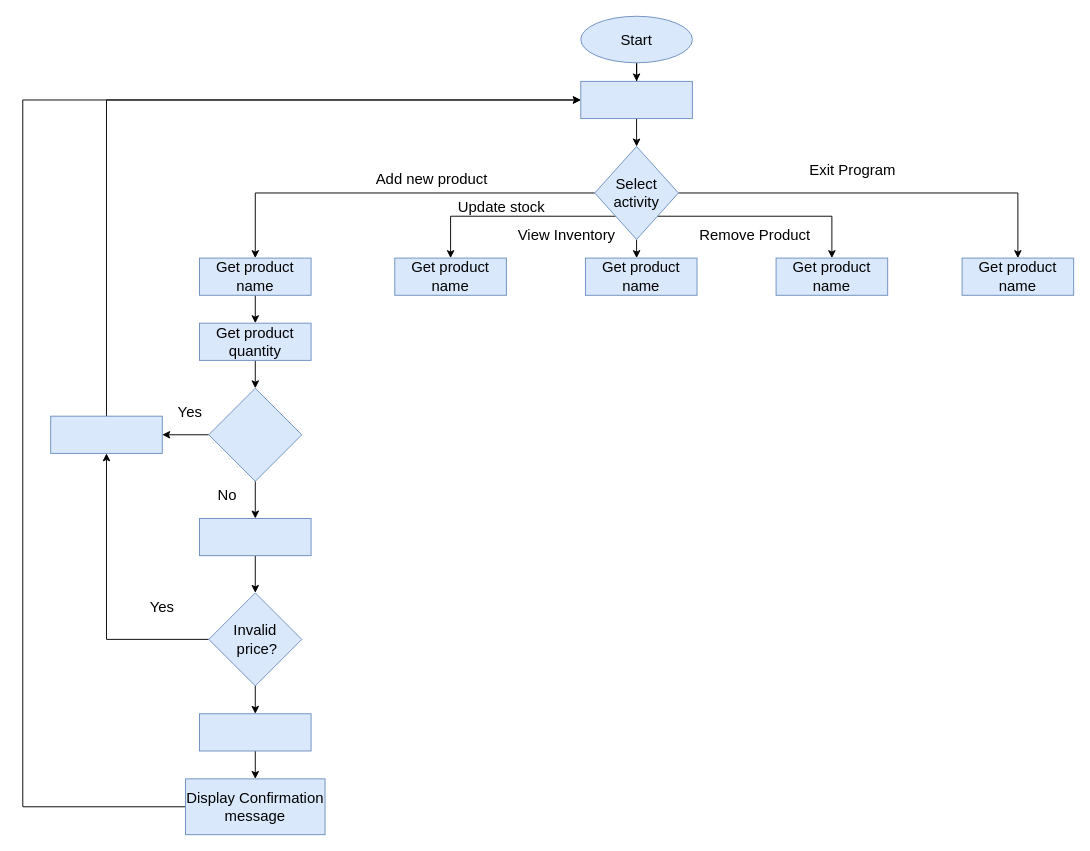
This 1090x851 diagram has some shape labels left out. The shapes that lost their labels are listed below. From the top down, each one's centre as x and y in pixels, then its label:
At [636,99]: "Display activities".
At [106,434]: "Display error".
At [255,434]: "Invalid quantity?".
At [255,537]: "Get product price".
At [255,732]: "Add Product to Invetory".
